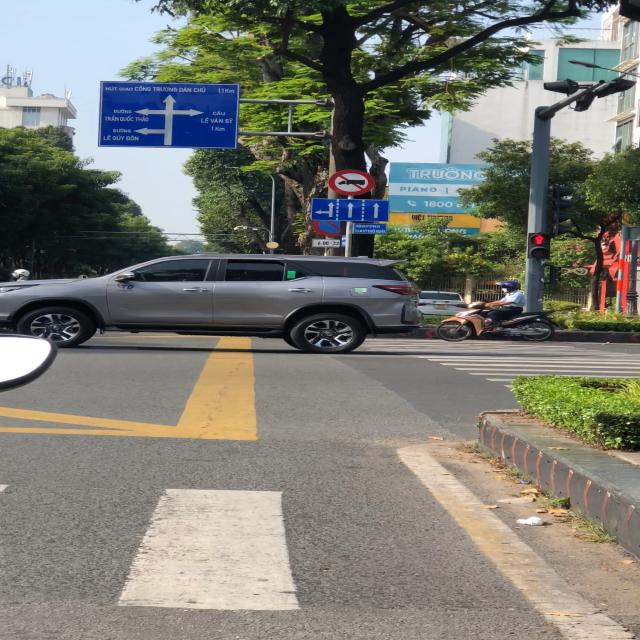Bien bao cam xe so-mi ro-mooc: (326, 169, 377, 197)
